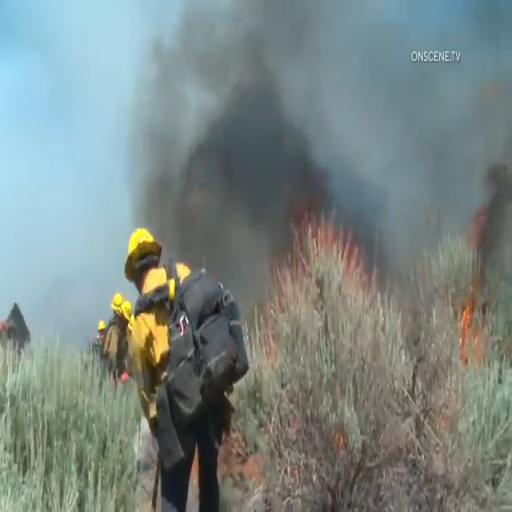smoke: (170, 38, 348, 236), (444, 139, 506, 265)
